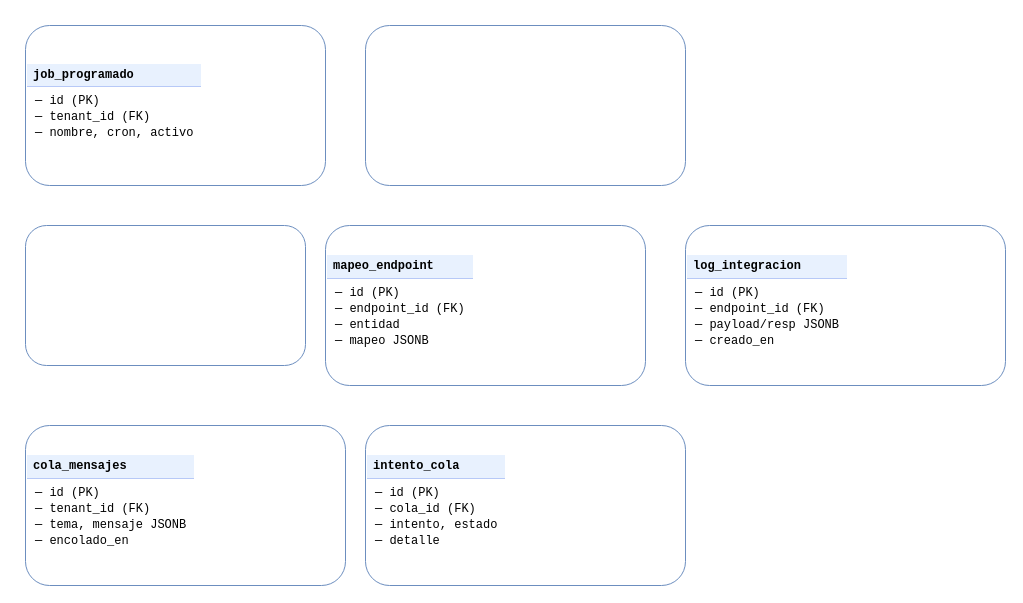
This 1023x603 diagram has some shape labels left out. Each missing label, with the centre of its shape:
endpoint_externo — id (PK) — nombre, base_url: (x=165, y=295)
job_ejecucion — id (PK) — job_id (FK) — inicio, fin, exito — detalle: (x=525, y=105)
